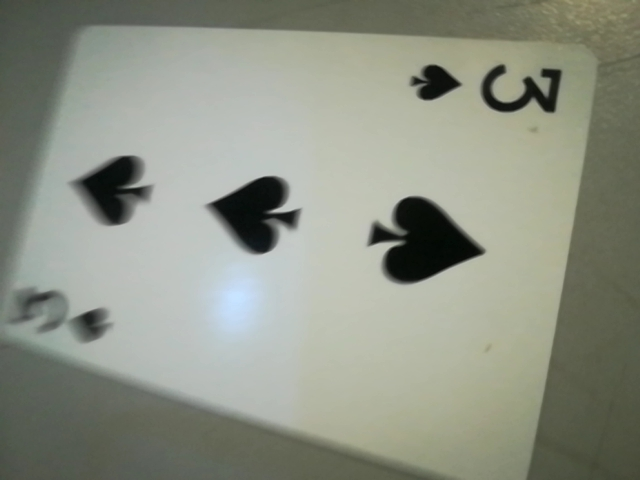ht 3: (400, 52, 579, 125)
